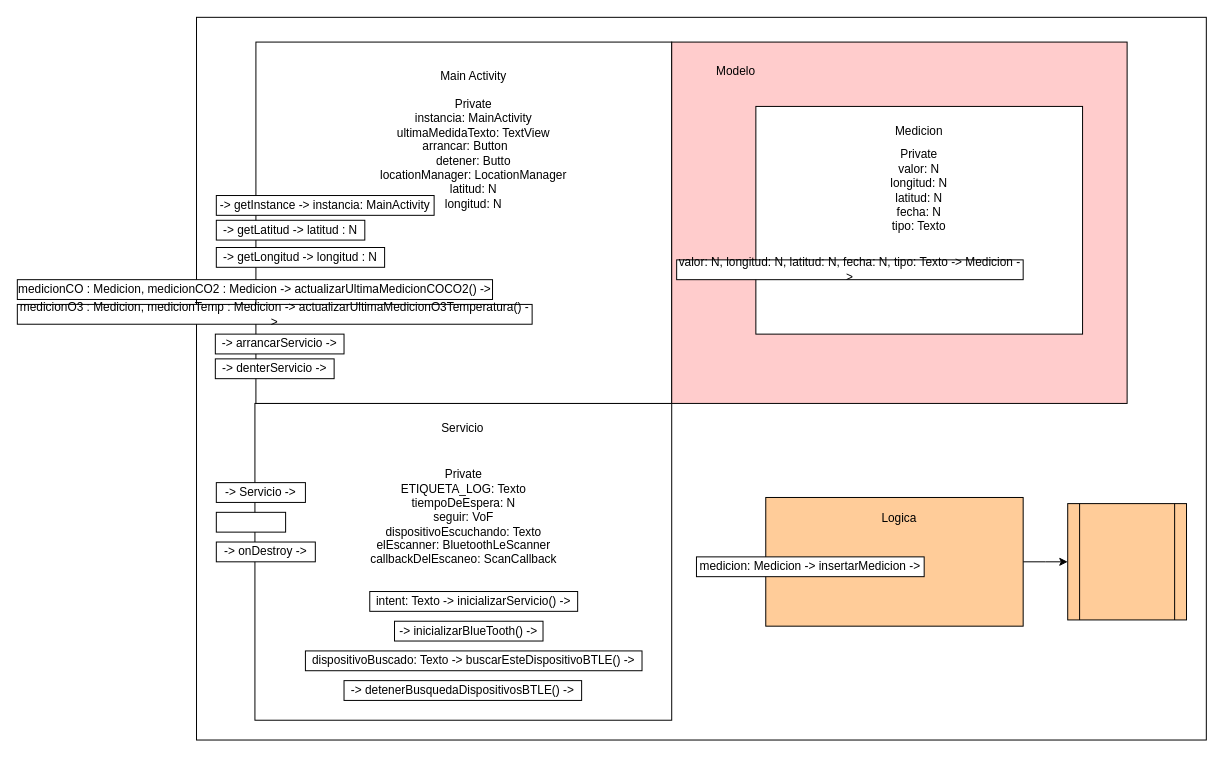
The diagram is 1224 pixels wide and 757 high, and some of its shapes have lost their labels. The centre of each missing label's shape, as x and y in pixels:
"-> parar ->" belongs at (x=250, y=521).
"Conexion con Firebase" belongs at (x=1127, y=561).
